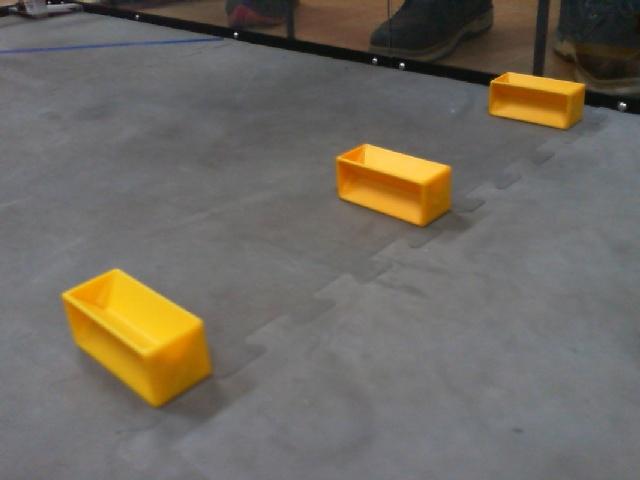YellowSample: (55, 265, 220, 410), (334, 141, 460, 227), (484, 64, 590, 138)
